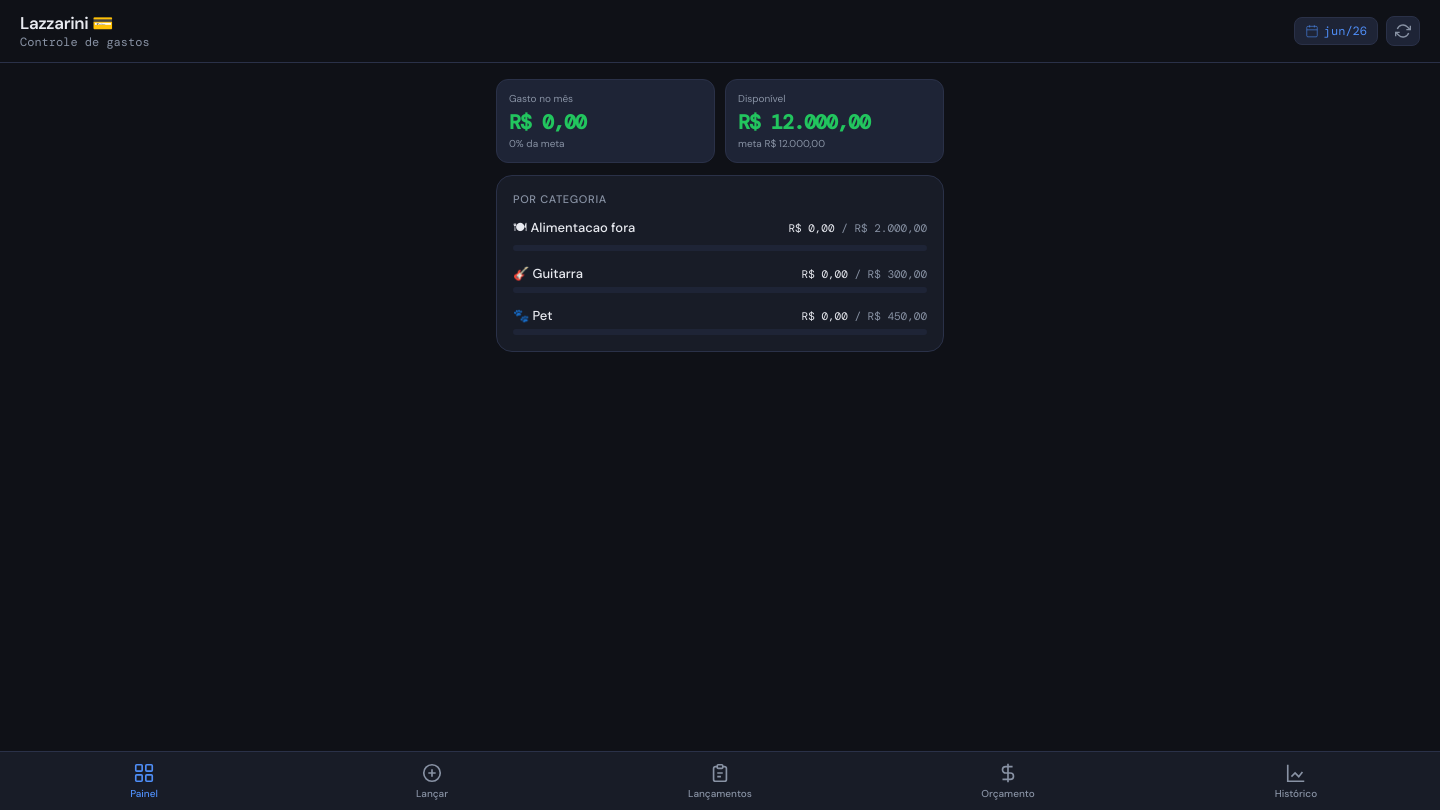
Scenario: Orçamento — renda › edita a renda
Expected: the text "Por categoria" is shown, [513,192,607,206]
Click the button "Orçamento" at [1008, 781], box [864,752,1152,809]
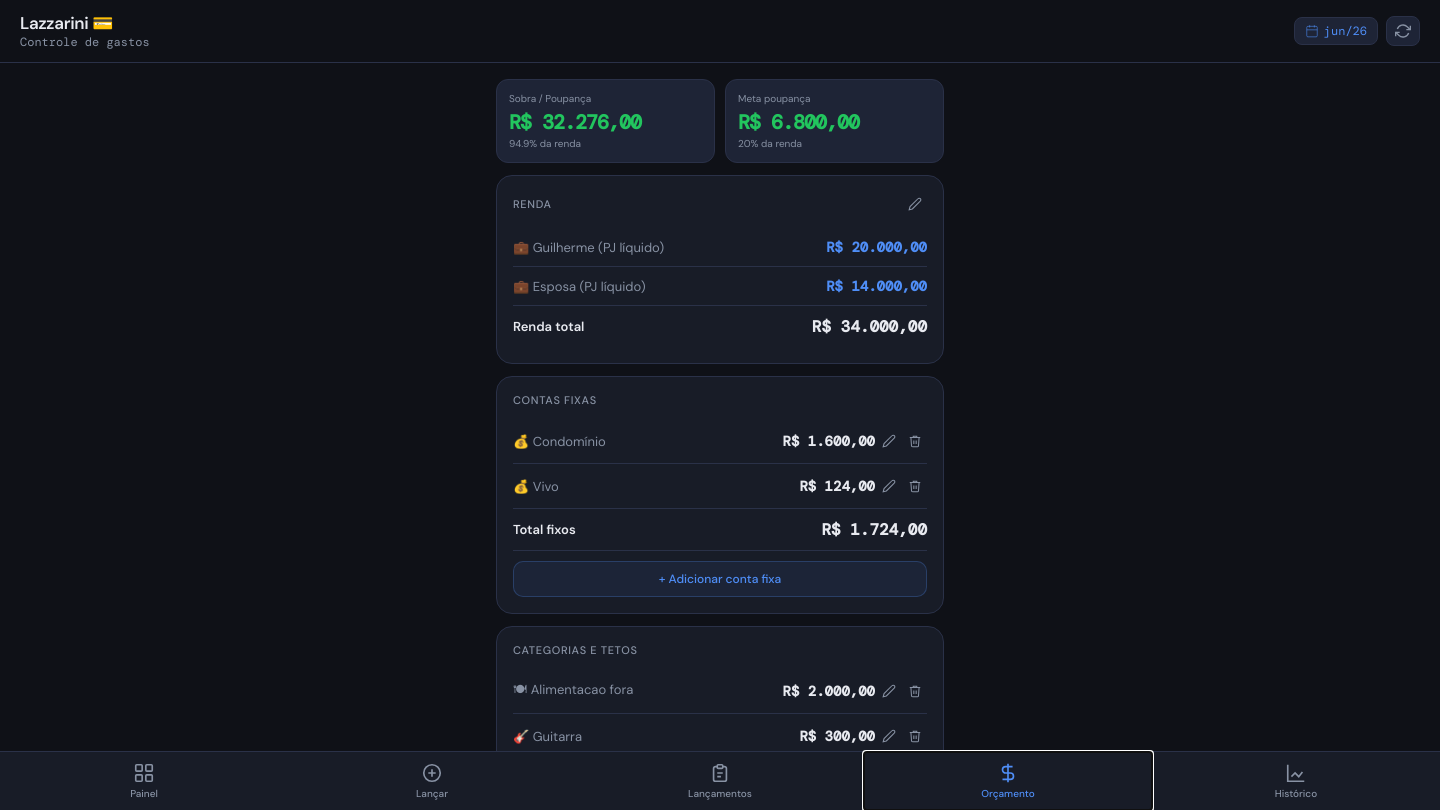
Click the button named "Editar renda" at [915, 204], box [903,192,927,216]
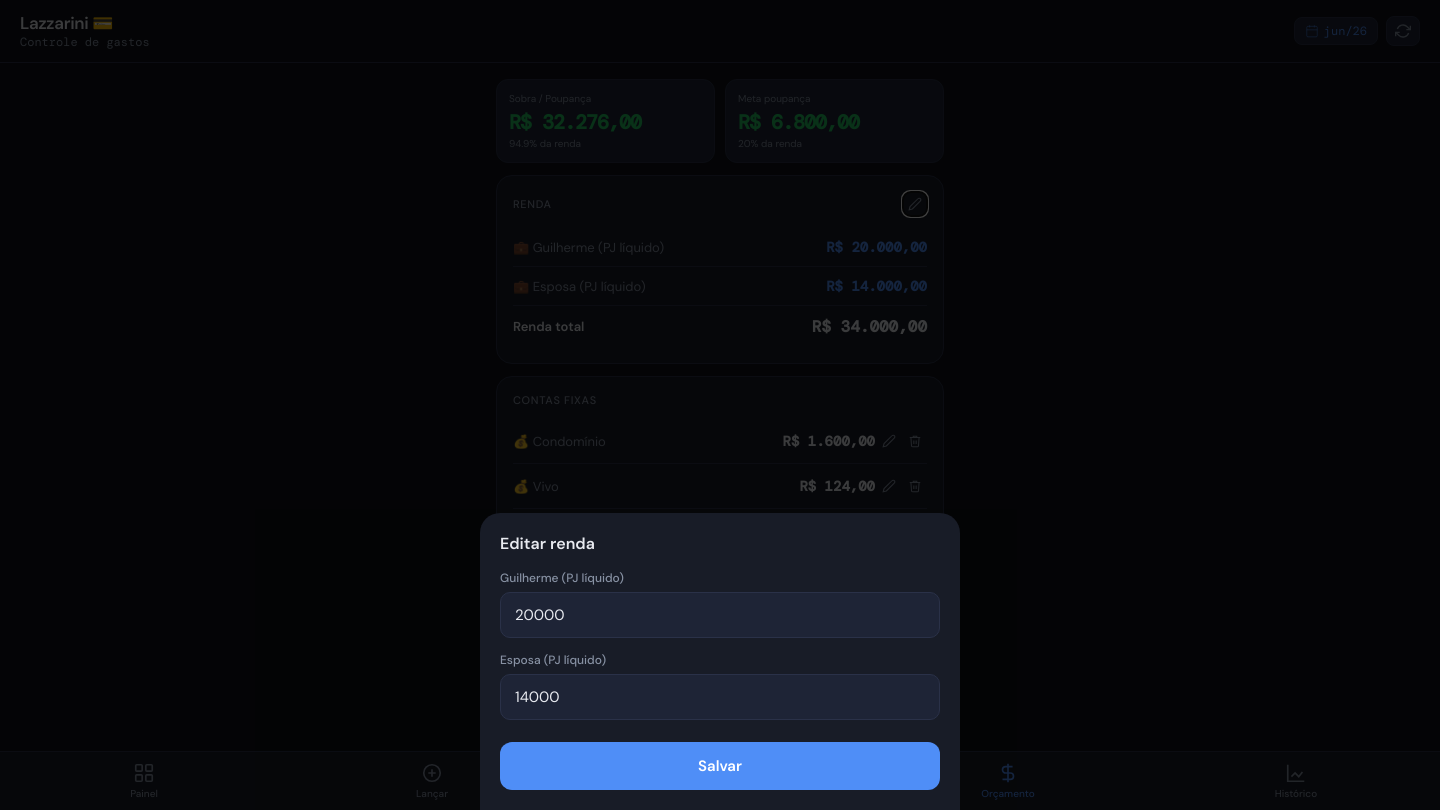
Expected: the text "Editar renda" is shown, [500,533,595,554]
Expected: the number field labelled "Guilherme (PJ líquido)" holds "20000"
Expected: the number field labelled "Esposa (PJ líquido)" holds "14000", [500,674,940,720]
Replace the text in the number field labelled "Guilherme (PJ líquido)" with "21000.5" at [720, 615], box [500,592,940,638]
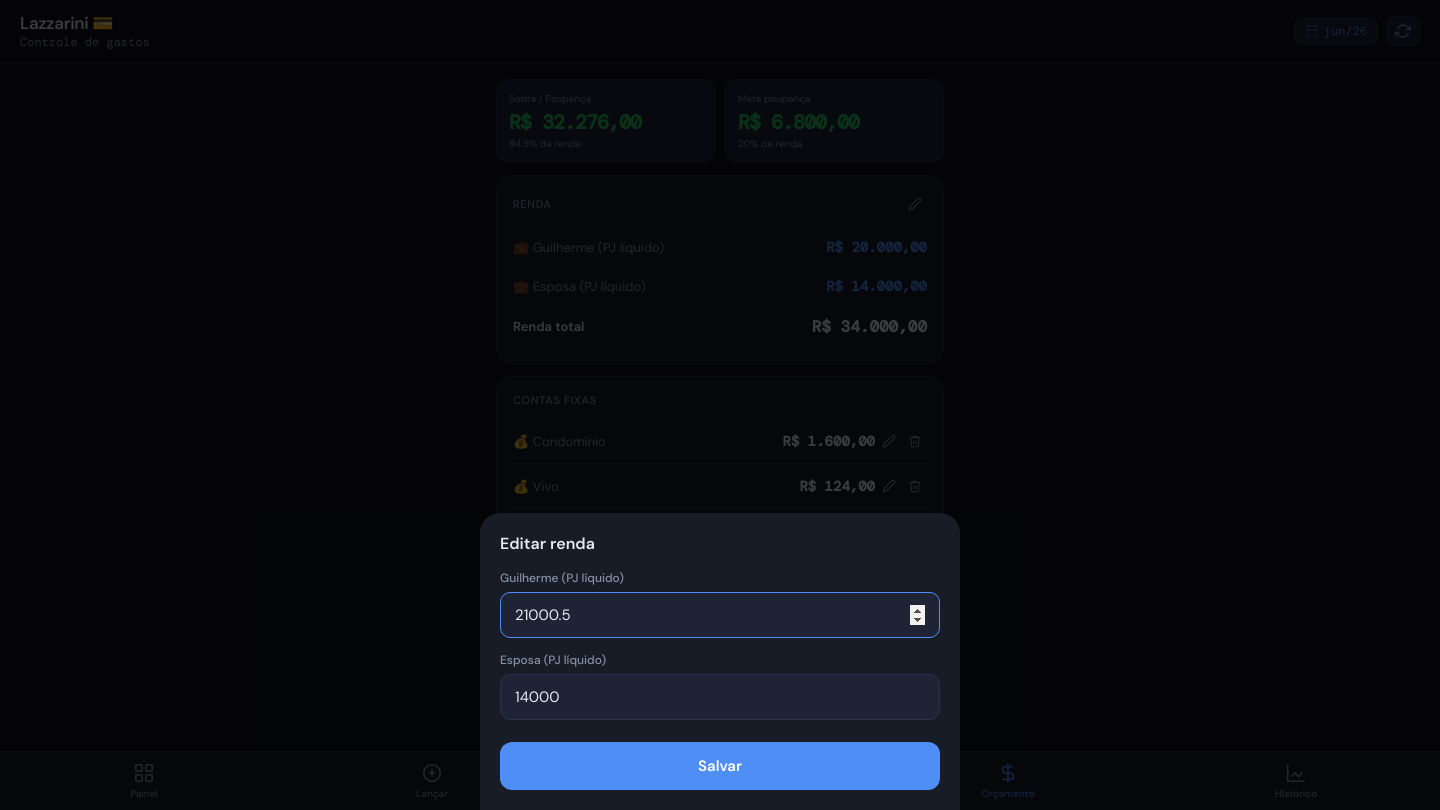
Click the button "Salvar" at [720, 766], box [500,742,940,790]
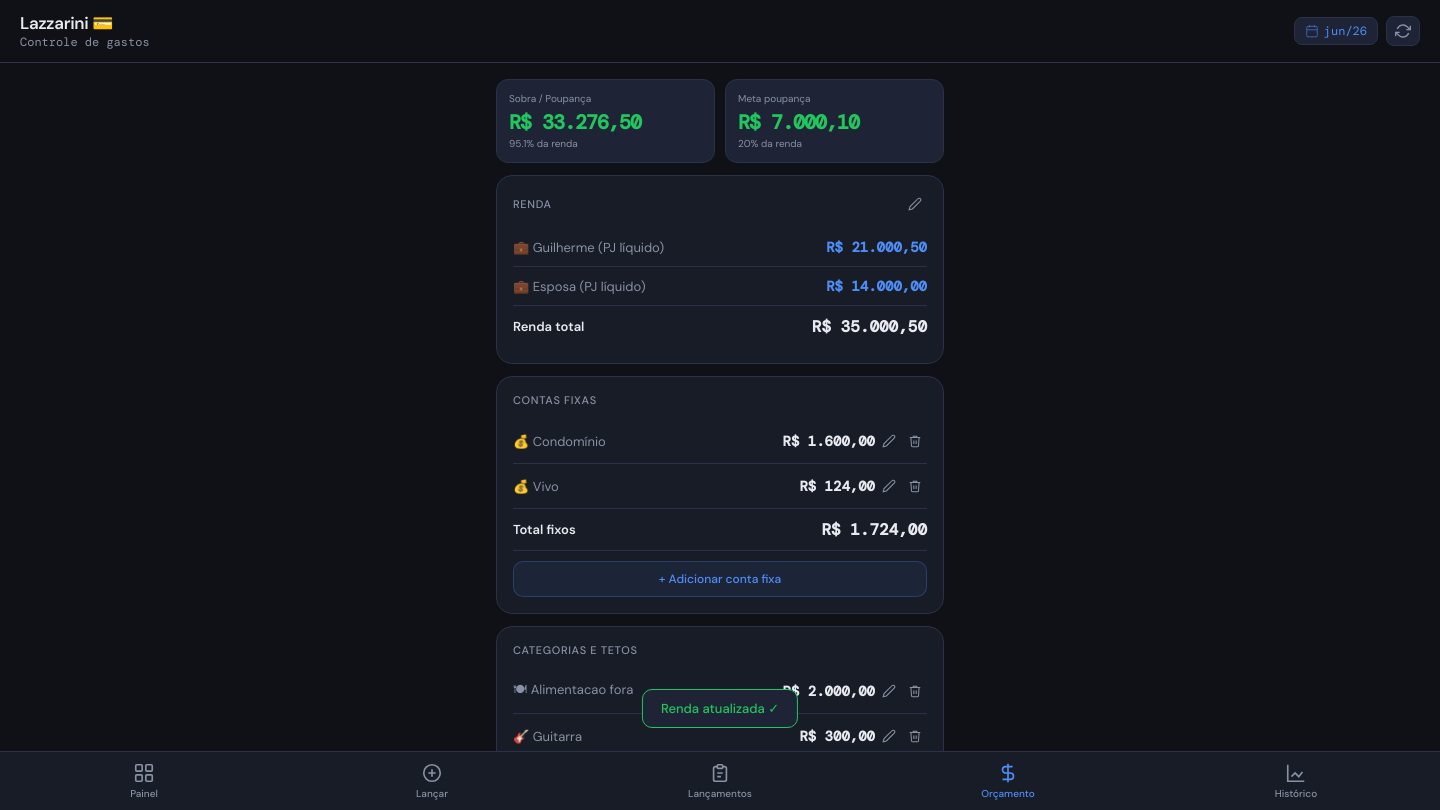
Expected: the message reads "Renda atualizada ✓", [661,700,779,717]
